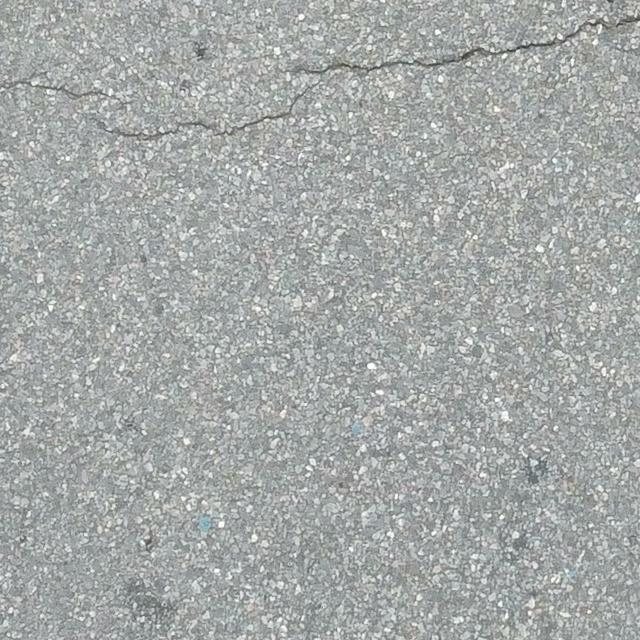TransverseCrack: (98, 14, 640, 142), (1, 78, 126, 102)
